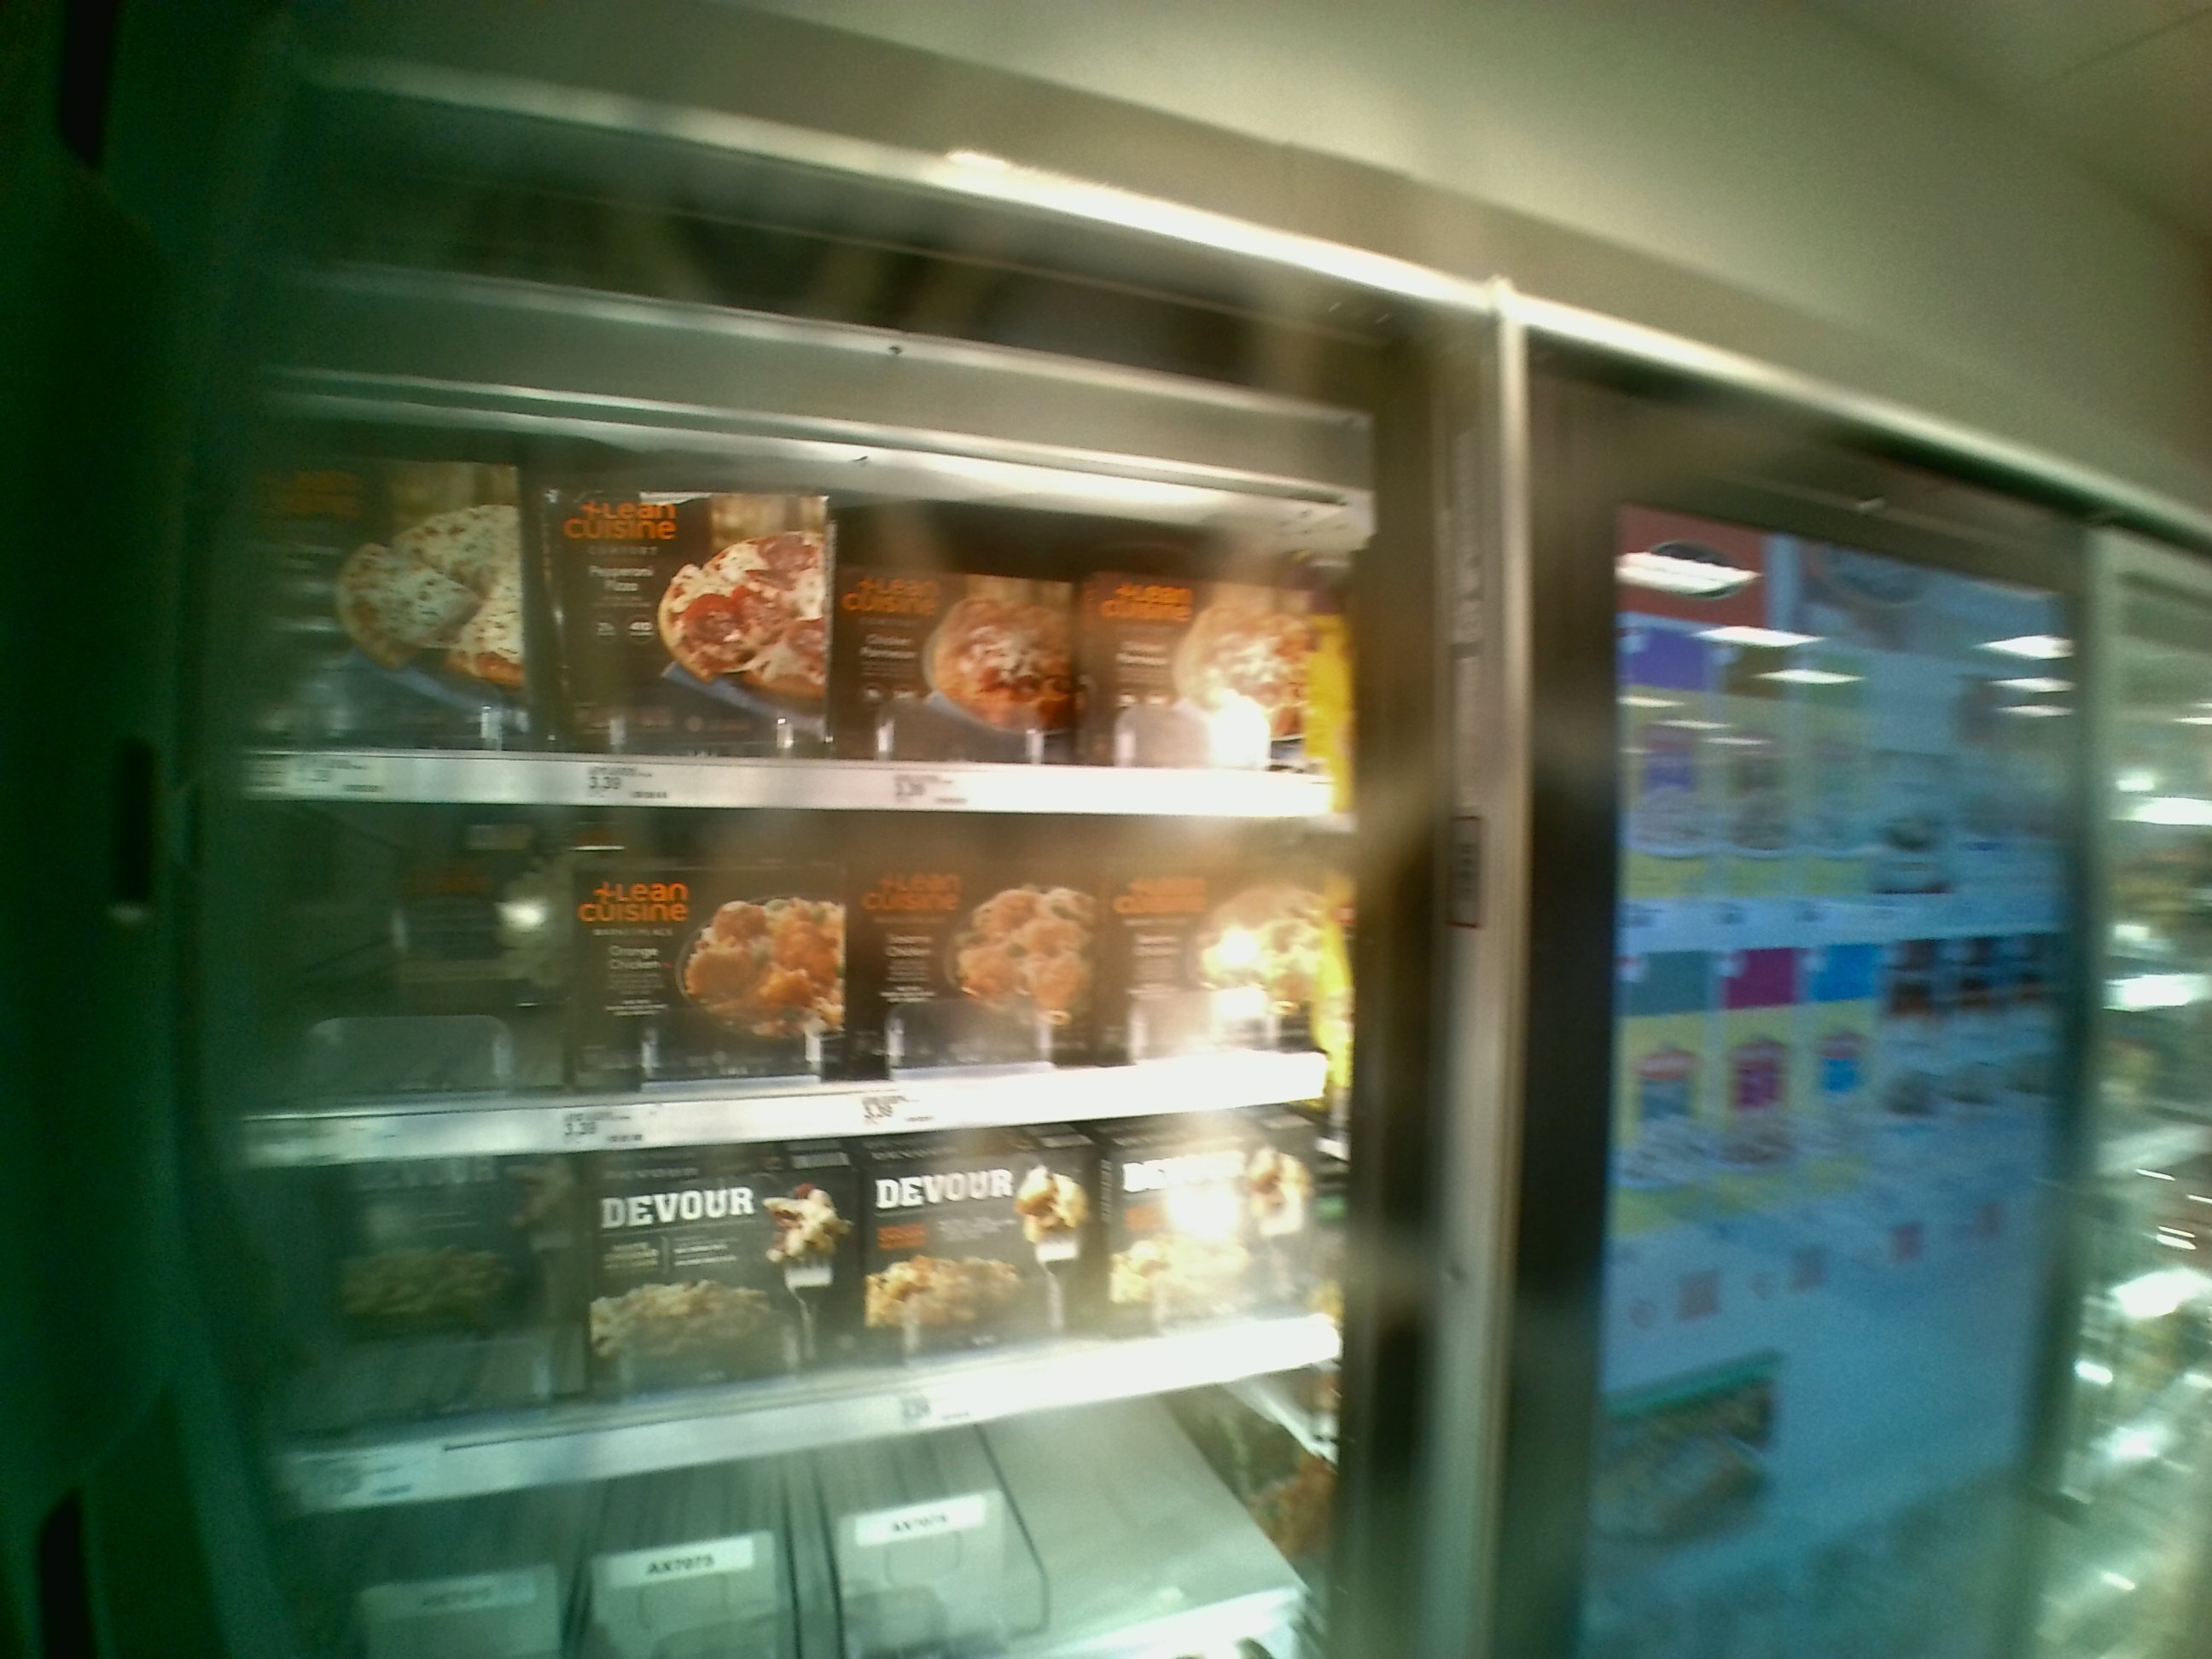shelf: (228, 404, 1350, 817), (221, 796, 1359, 1168)
